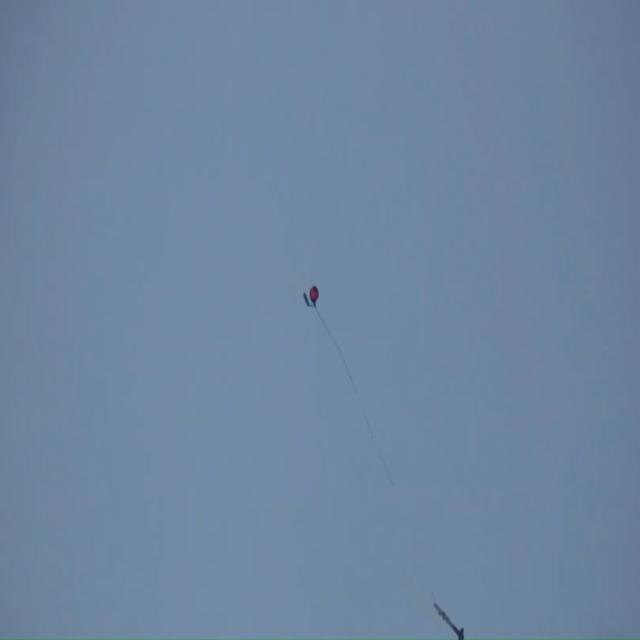Rocket: (433, 601, 465, 640)
